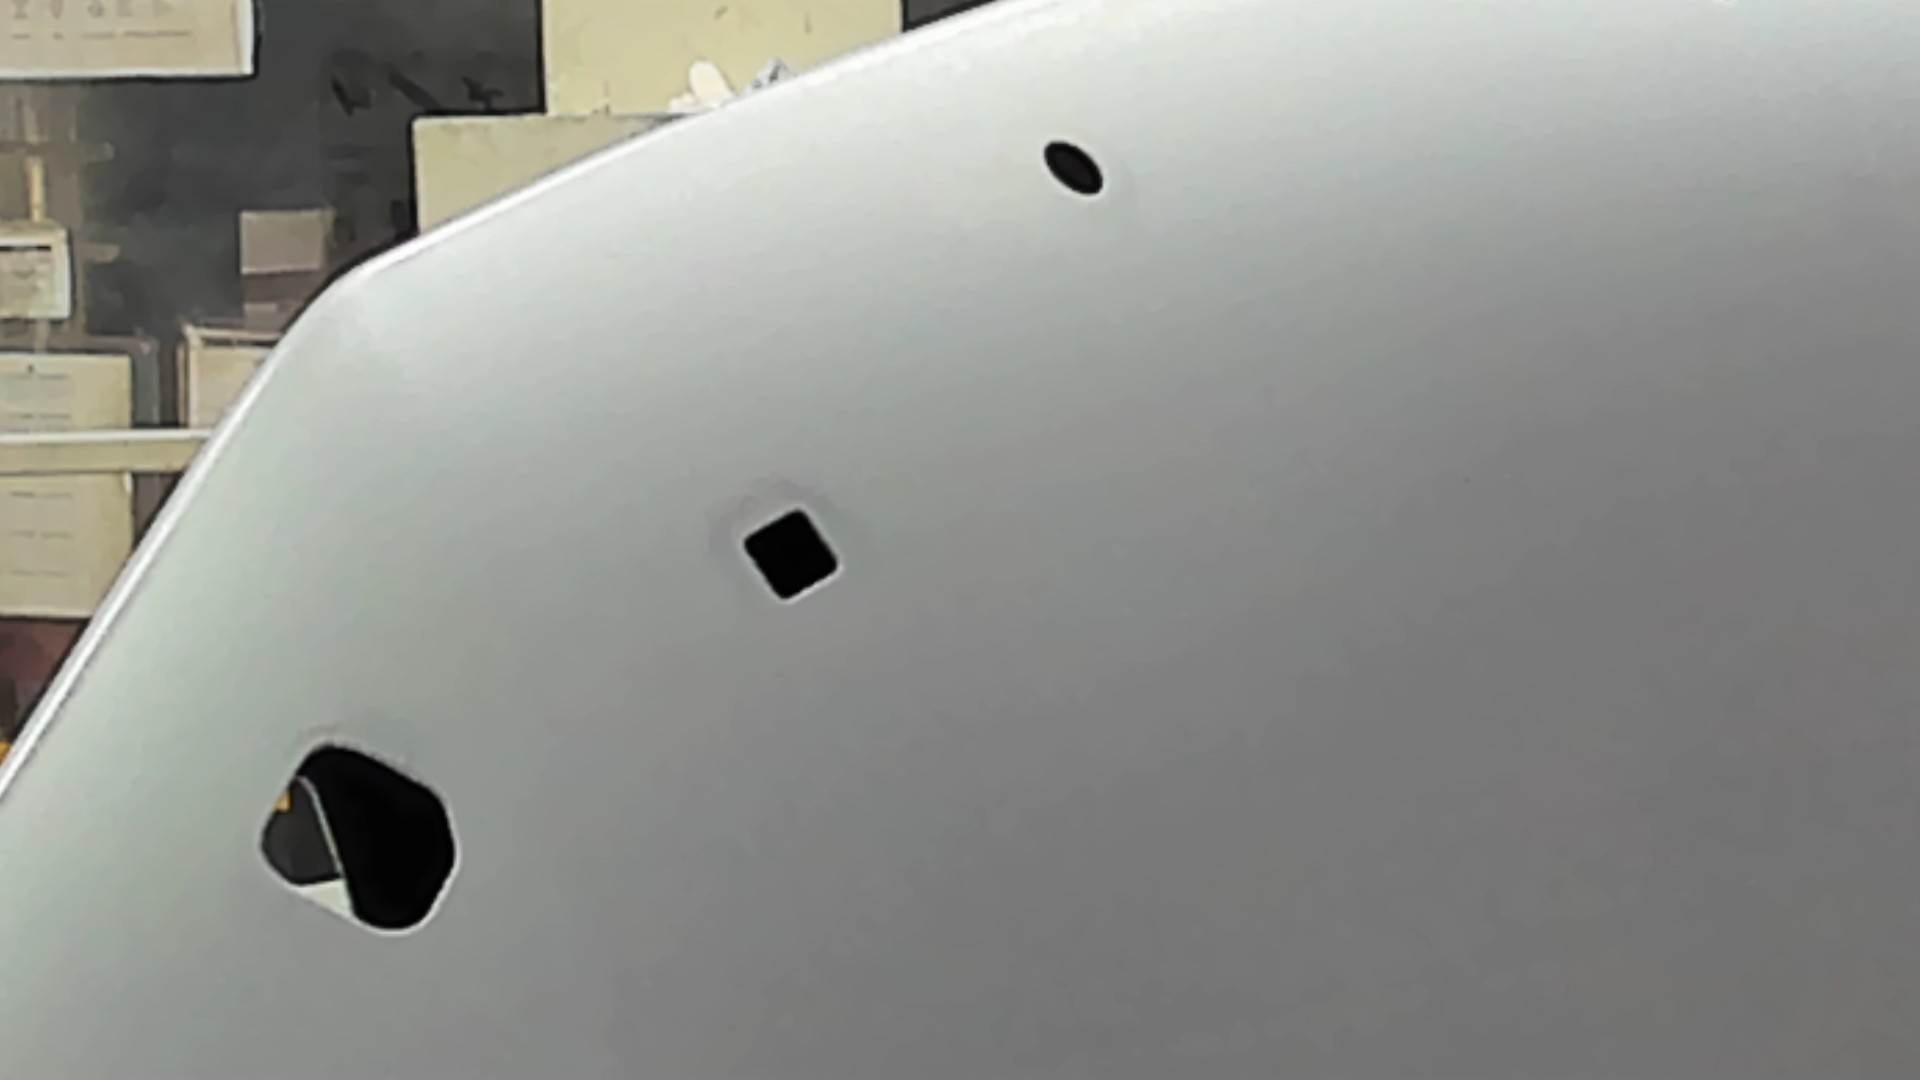chico: (1040, 138, 1106, 199)
grande: (257, 741, 463, 936)
mediano: (740, 506, 844, 605)
